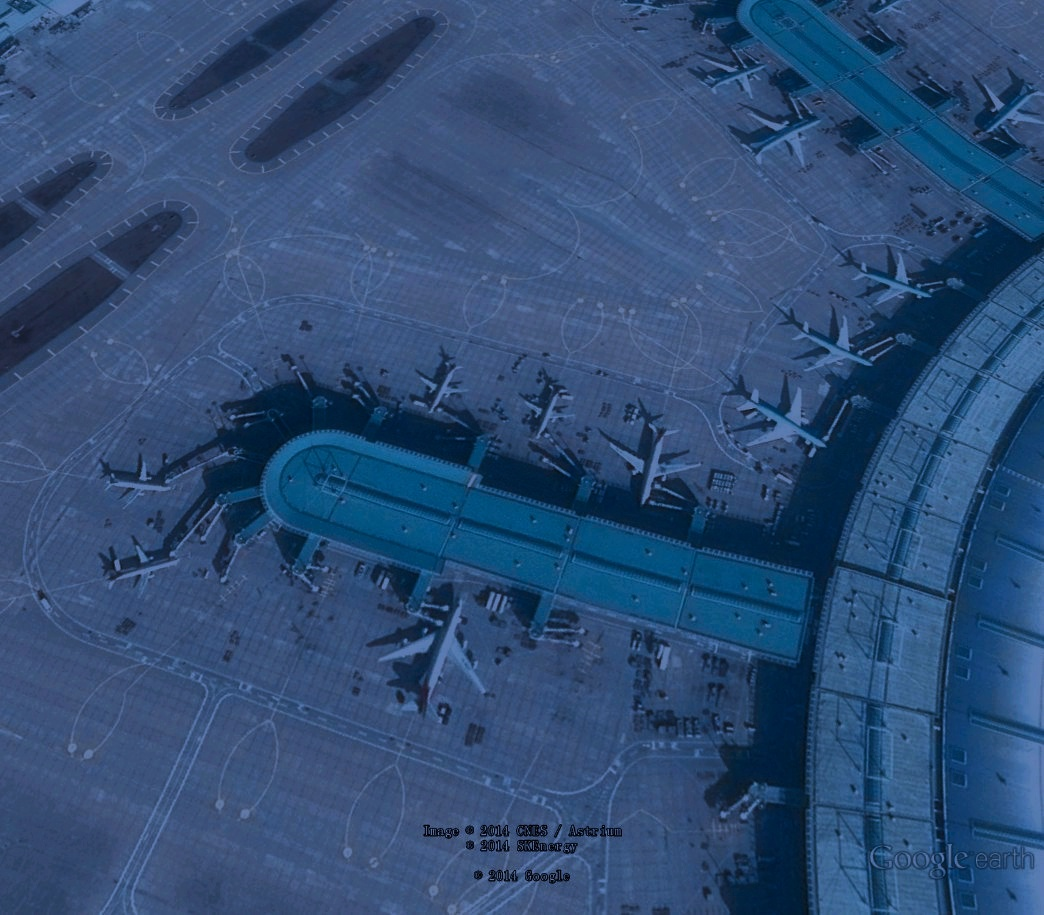aircraft: (367, 586, 496, 732), (598, 417, 711, 516), (730, 379, 837, 460), (730, 105, 828, 177), (789, 313, 891, 379), (847, 246, 940, 307), (102, 537, 181, 607), (970, 66, 1044, 139), (513, 370, 583, 444), (97, 451, 180, 511), (687, 49, 771, 102), (412, 348, 472, 420)
